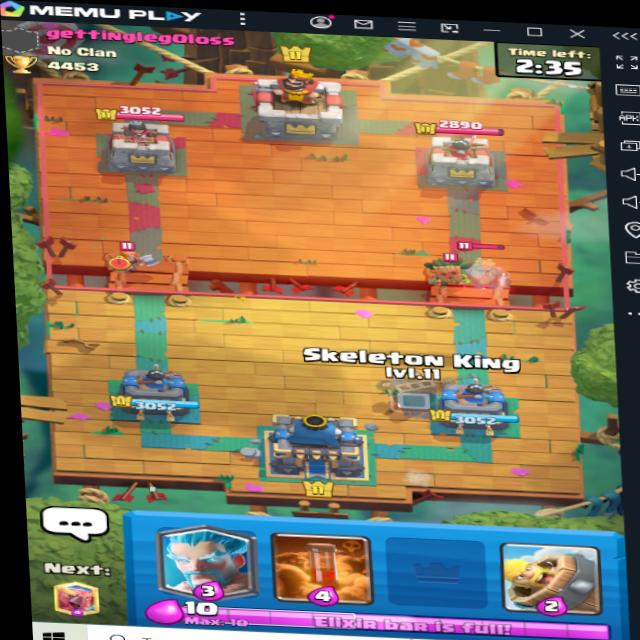dart-goblin: (420, 248, 475, 289)
royal-ghost: (452, 239, 521, 293)
valkyrie: (90, 228, 158, 281)
